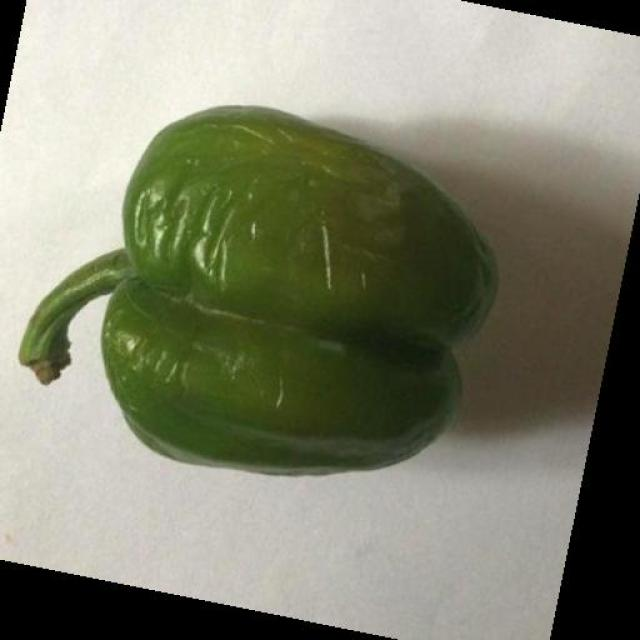Stale_Capsicum: (85, 134, 509, 469)
